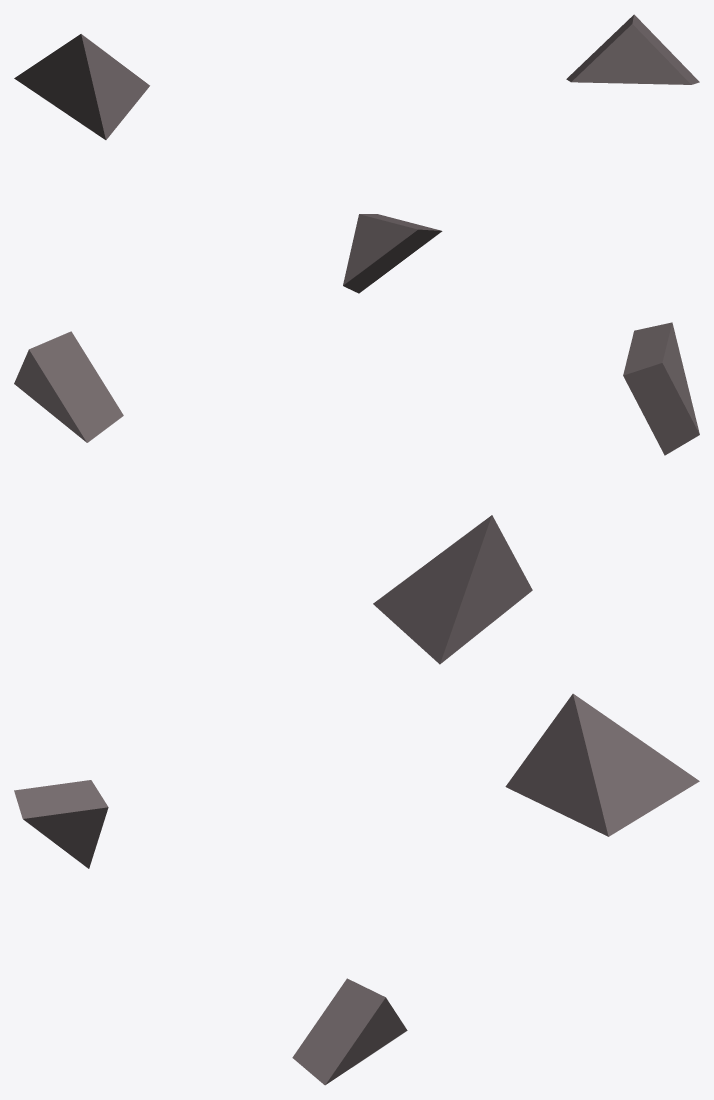
The model's file is Rocks_Sharp_s_05.fbx.
3 views of the same model, one above another, from view 1: azimuth 30°, elevation 25°; view 2: azimuth 150°, elevation 25°; view 3: azimuth 270°, elevation 25° (orthographic). The views are drawn at different scales.
Parts seen in each view (by area): view 1: Rocks_Sharp_s_05; view 2: Rocks_Sharp_s_05; view 3: Rocks_Sharp_s_05.
Part boxes in pixels (bbox=[...]): Rocks_Sharp_s_05: bbox=[14, 14, 699, 293]; Rocks_Sharp_s_05: bbox=[14, 322, 699, 664]; Rocks_Sharp_s_05: bbox=[14, 693, 699, 1085].
Size of the model in its own units: 83.79 by 18.6 by 83.35.
